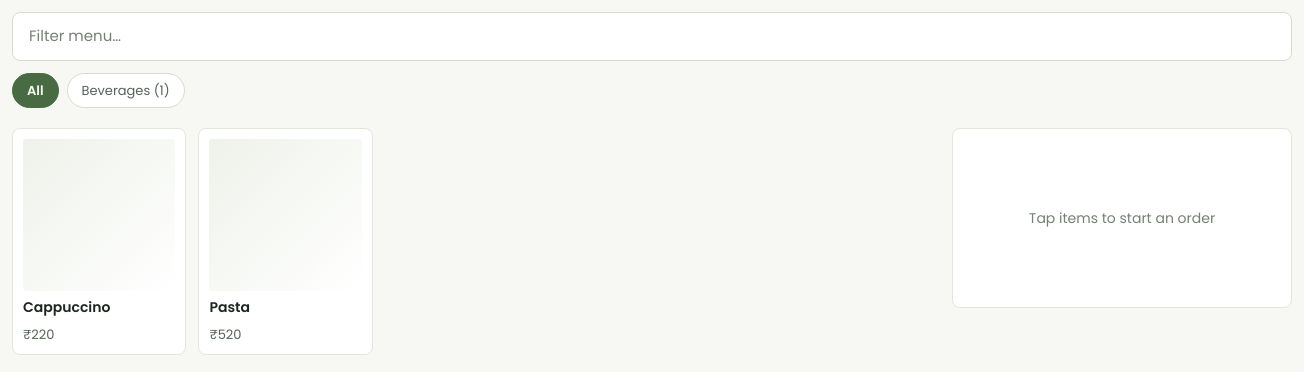
Test case: MenuPage › tile click adds to cart and side panel shows total
The width and height of the screenshot is (1304, 372).
Step 1. Click the text "Cappuccino" → (67, 308), box [23,299,110,317]
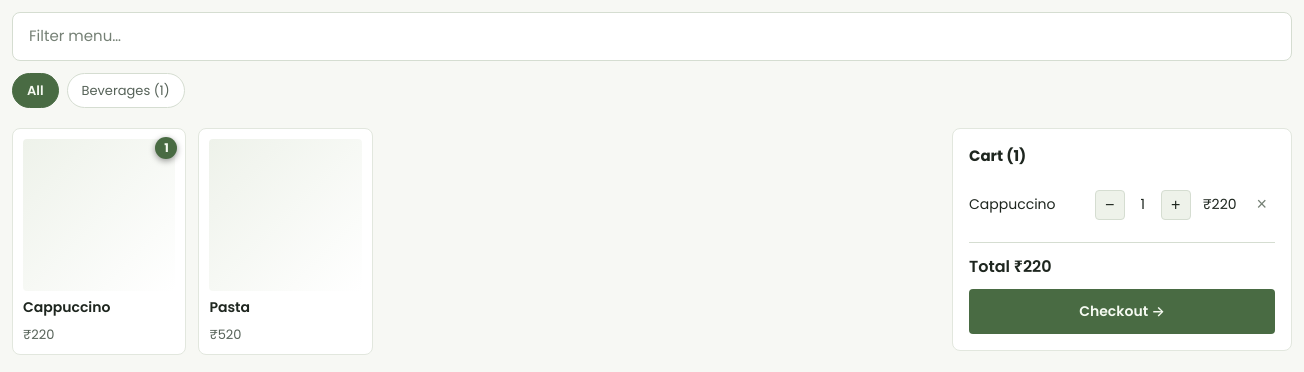
Expected: the text with test id "side-cart-total" shows "₹220", [1014,254,1052,278]
